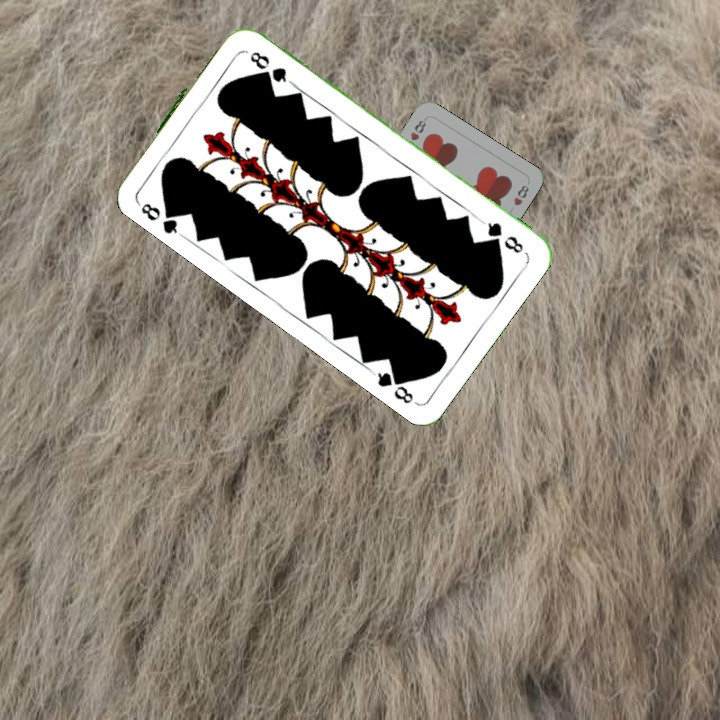G8: (132, 197, 183, 238), (477, 216, 526, 256)
H8: (406, 114, 429, 143)
